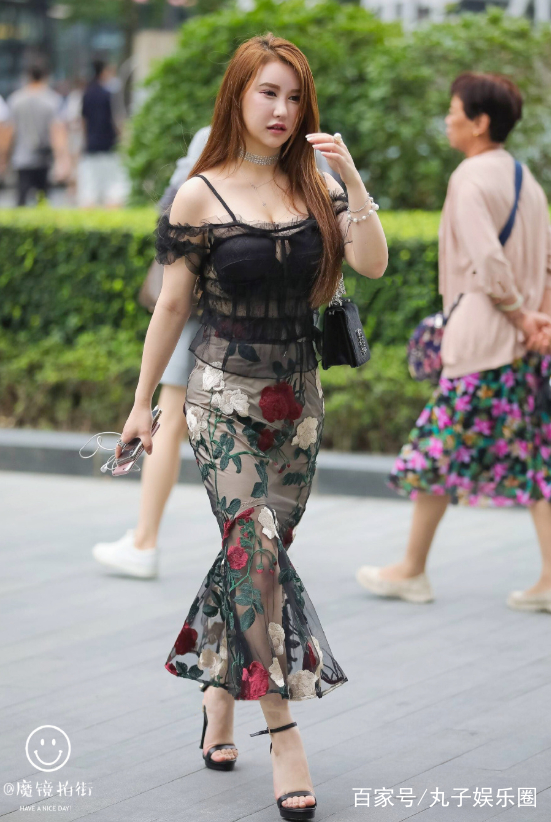person: (103, 61, 381, 702)
